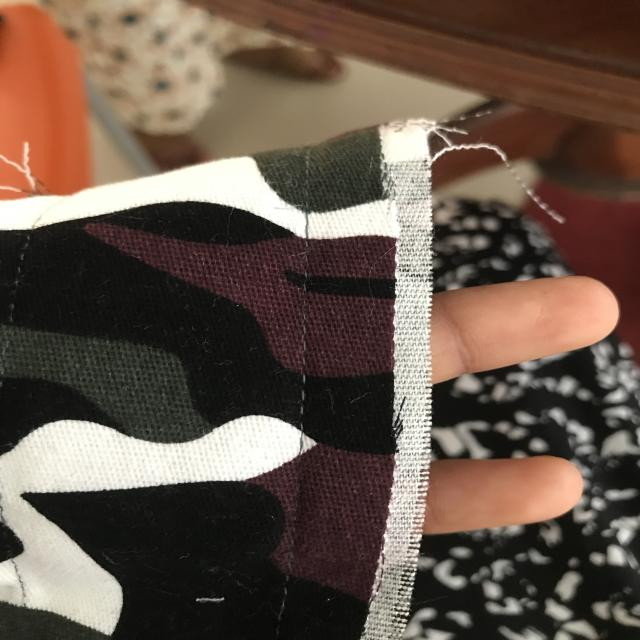good: (284, 368, 326, 432)
